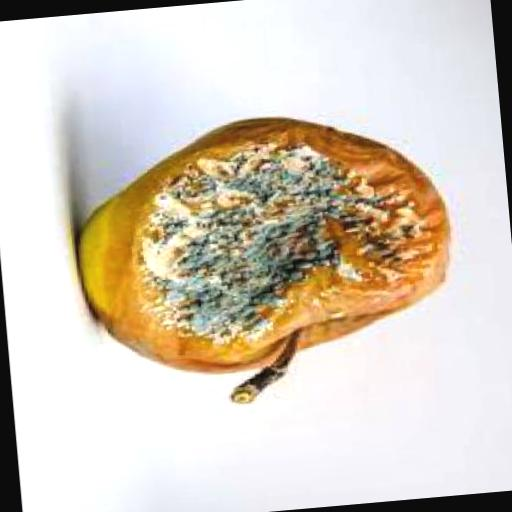biodegradable: (66, 98, 468, 416)
